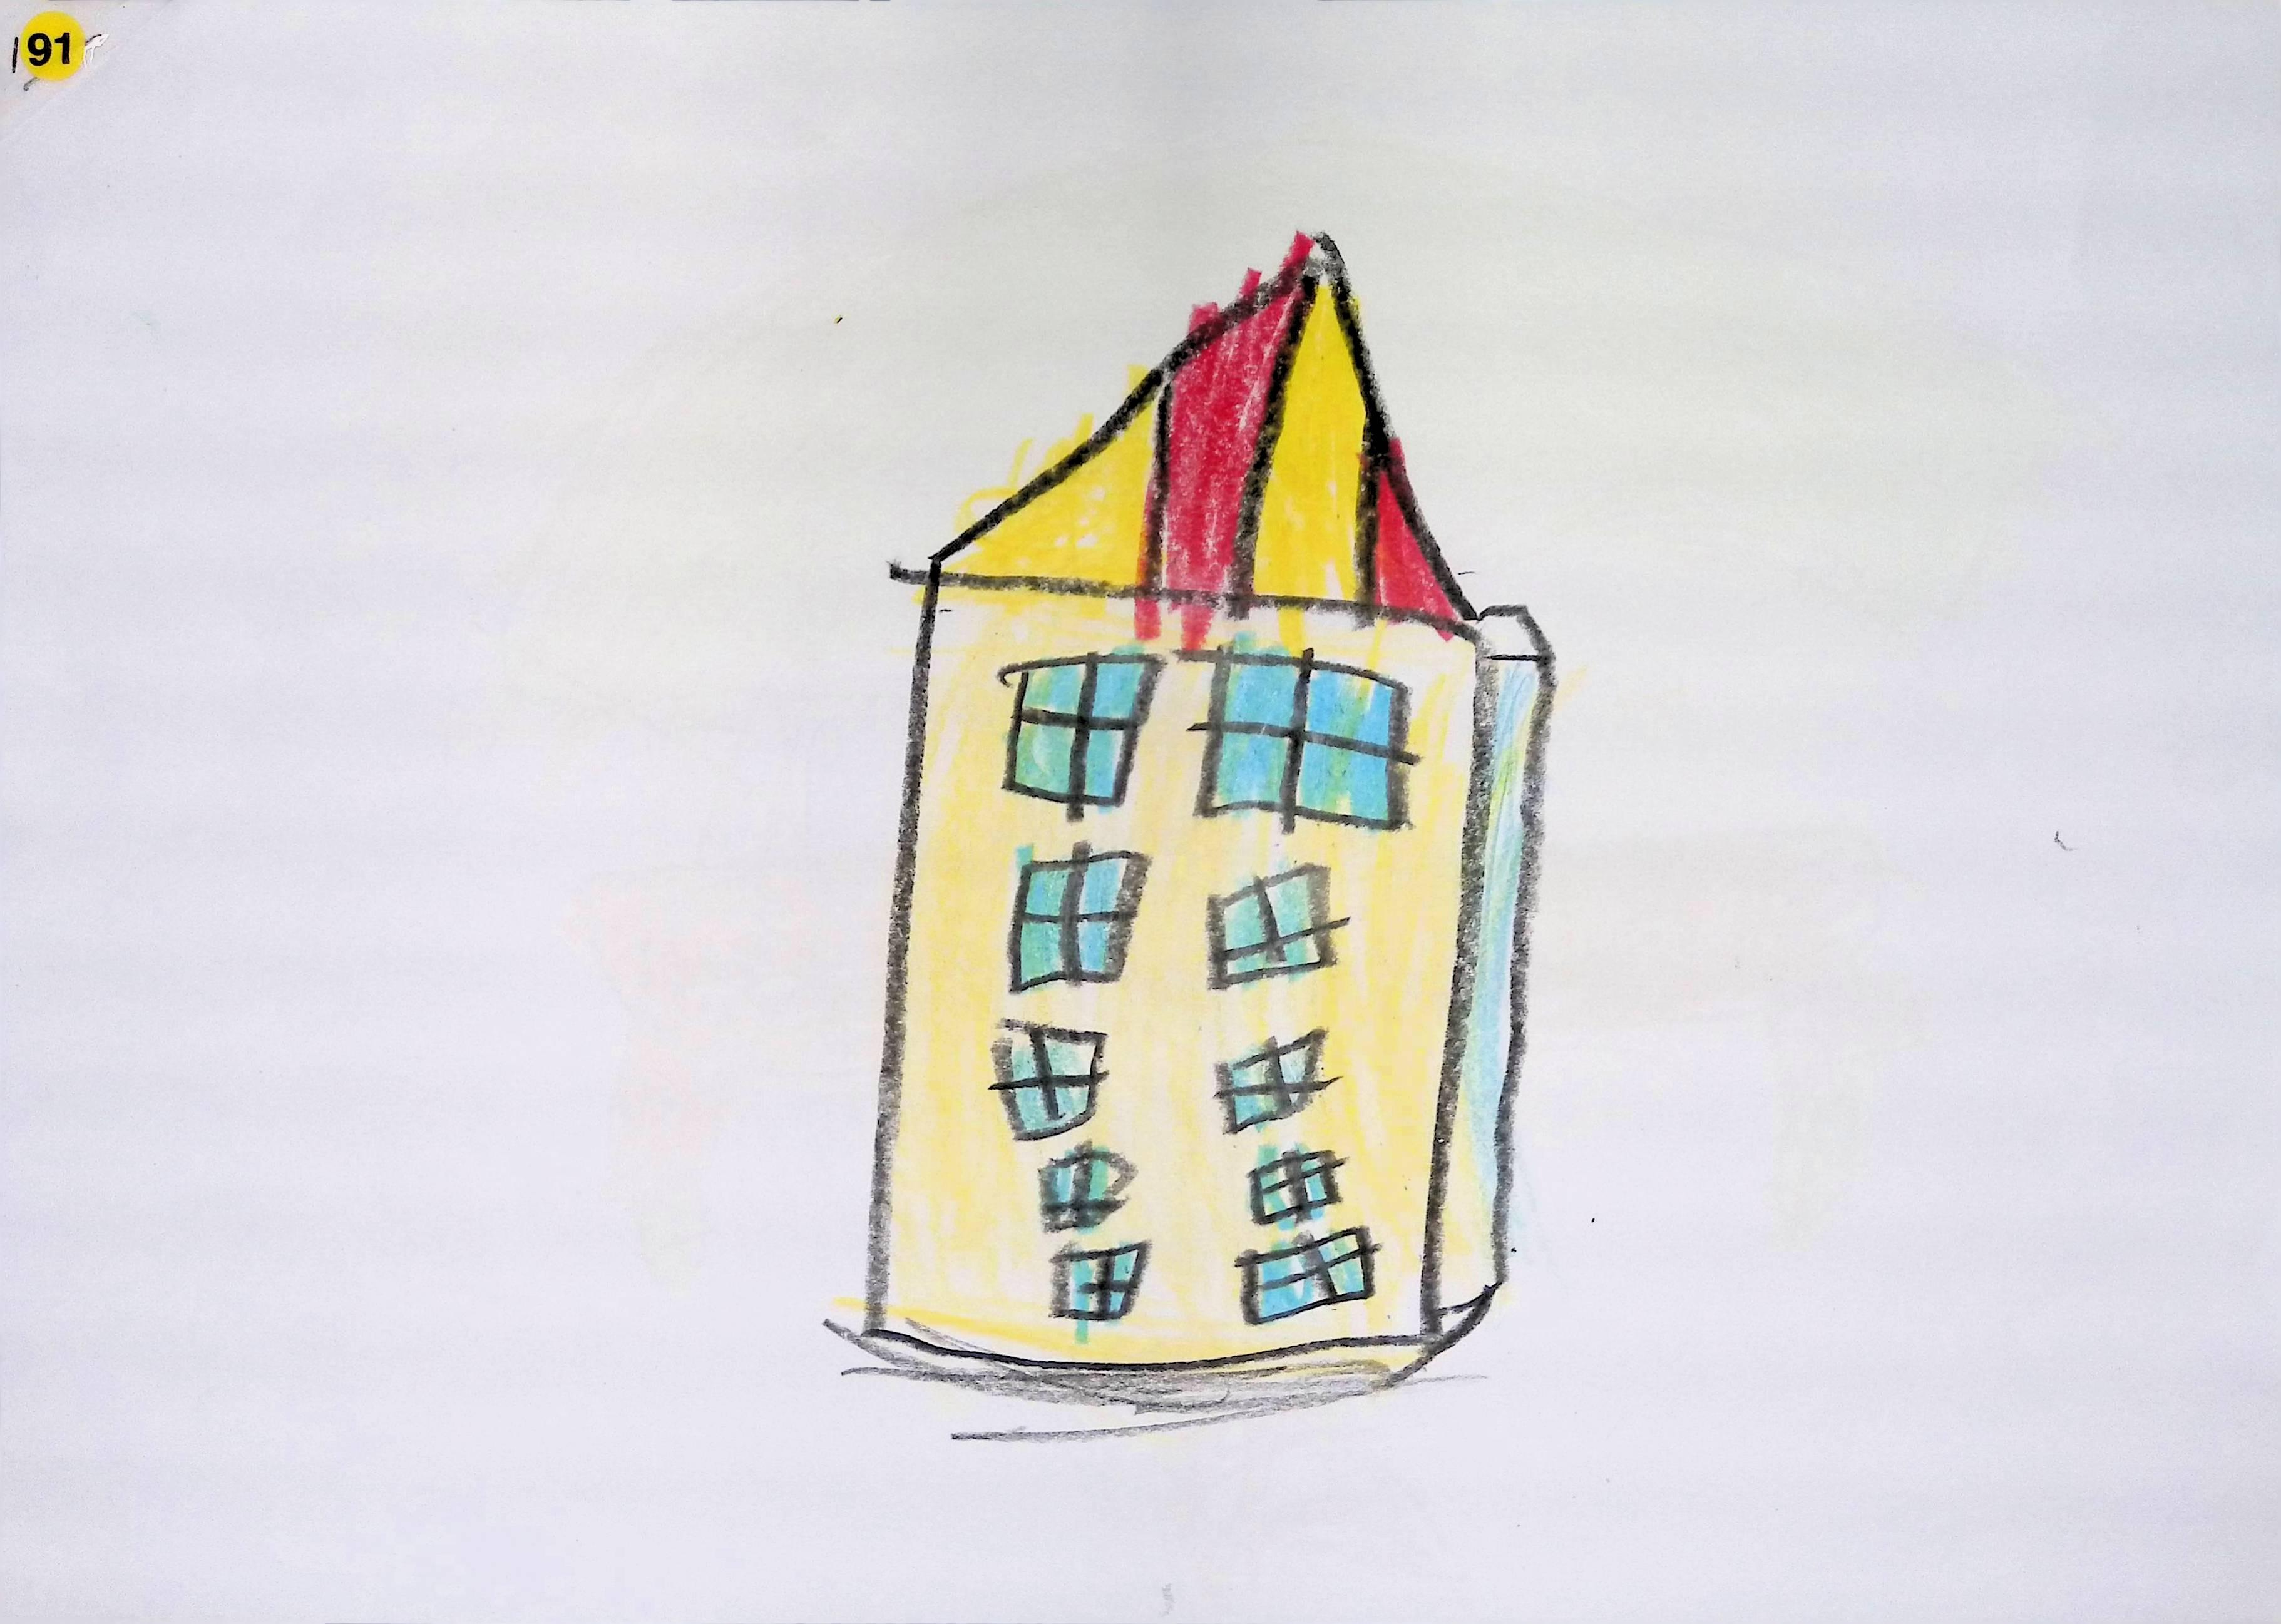house: (854, 232, 1553, 1410)
roof: (944, 232, 1474, 629)
wall: (865, 573, 1499, 1376)
window: (1193, 649, 1416, 830), (998, 652, 1162, 817), (1010, 842, 1149, 991), (1209, 863, 1350, 988), (993, 1019, 1107, 1141), (1235, 1229, 1378, 1325), (1216, 1028, 1337, 1134), (1039, 1144, 1137, 1232), (1051, 1243, 1149, 1322), (1249, 1149, 1344, 1225)
